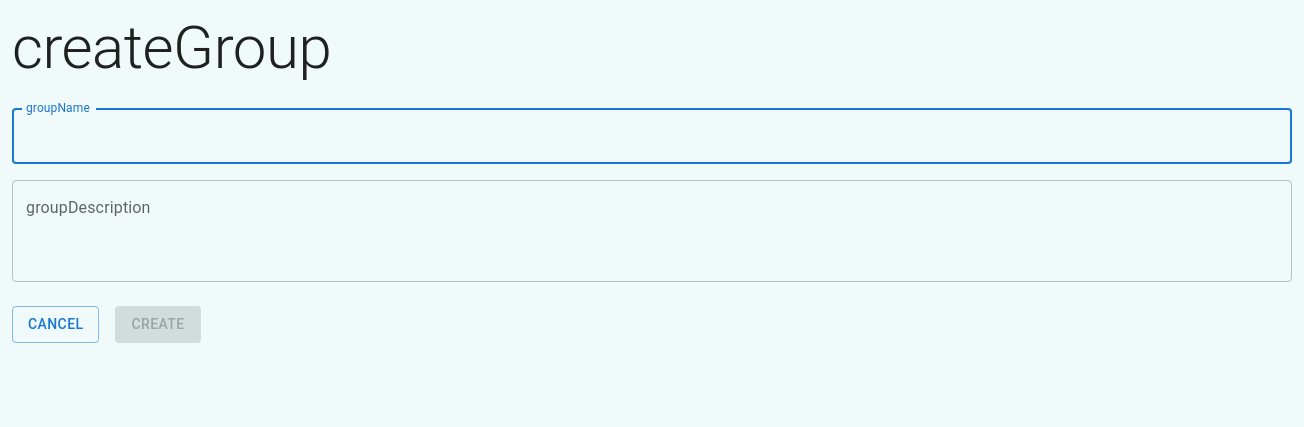
it: NewGroupPage › cleans up orphaned group when member insert fails
In the field labelled "groupName": (652, 136) x1=12 y1=108 x2=1292 y2=164, type "Family"
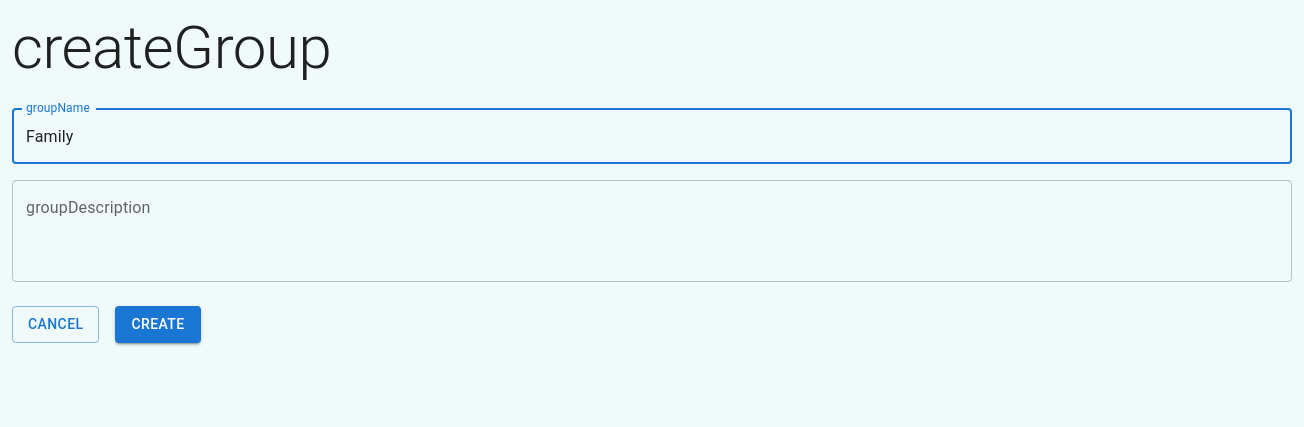
Click the button "create": (158, 324) x1=116 y1=306 x2=201 y2=342
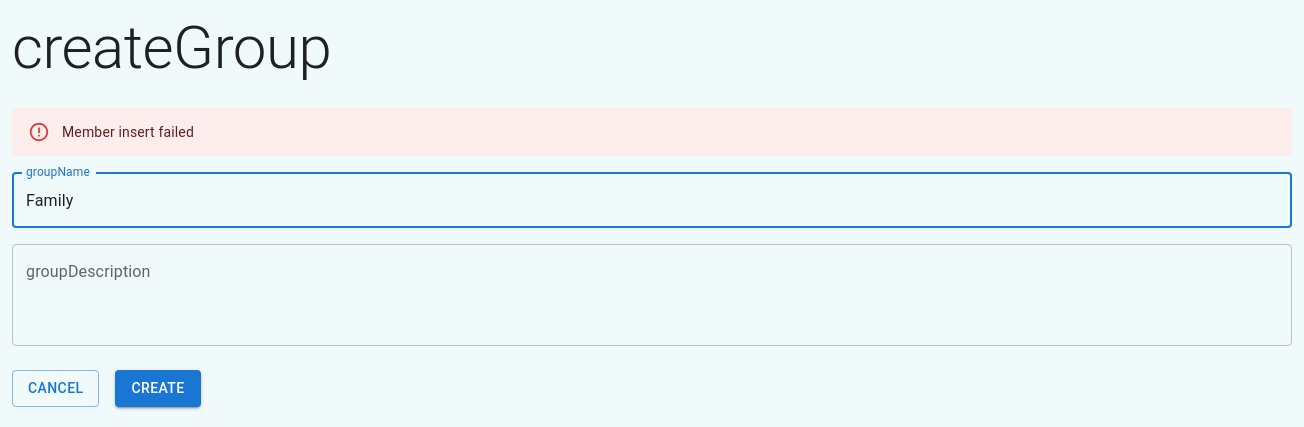
Check: the text "Member insert failed" is shown, box x1=62 y1=124 x2=194 y2=140
